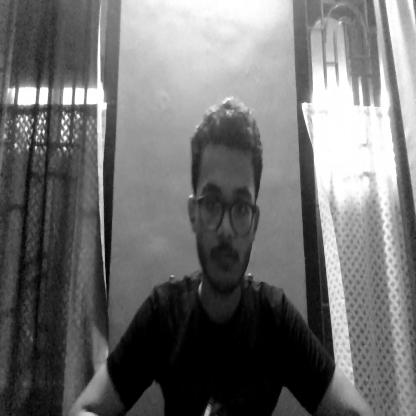Normal: (186, 91, 259, 299)
